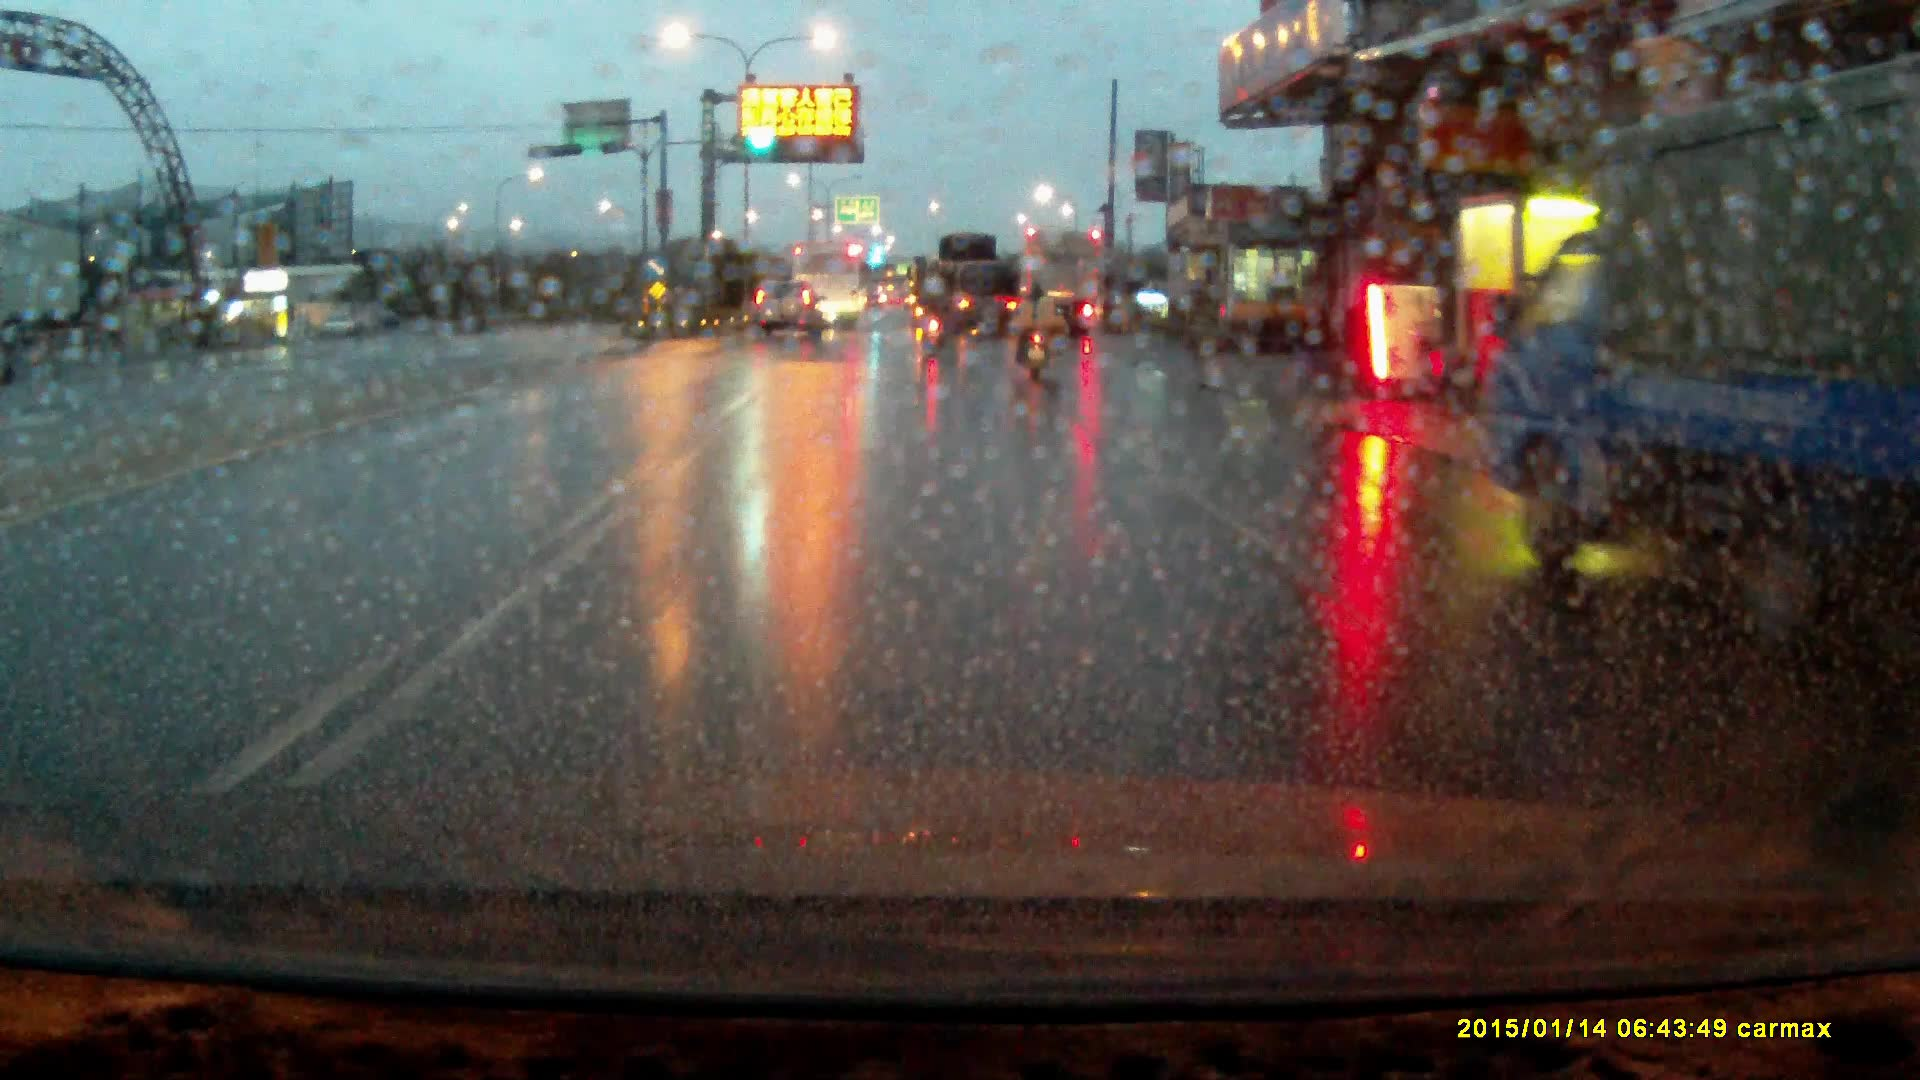rider: (1016, 279, 1055, 382), (921, 281, 946, 353)
vehicle: (1478, 81, 1920, 590), (925, 232, 1024, 345), (1022, 230, 1106, 336), (792, 236, 866, 329), (754, 278, 821, 341)
